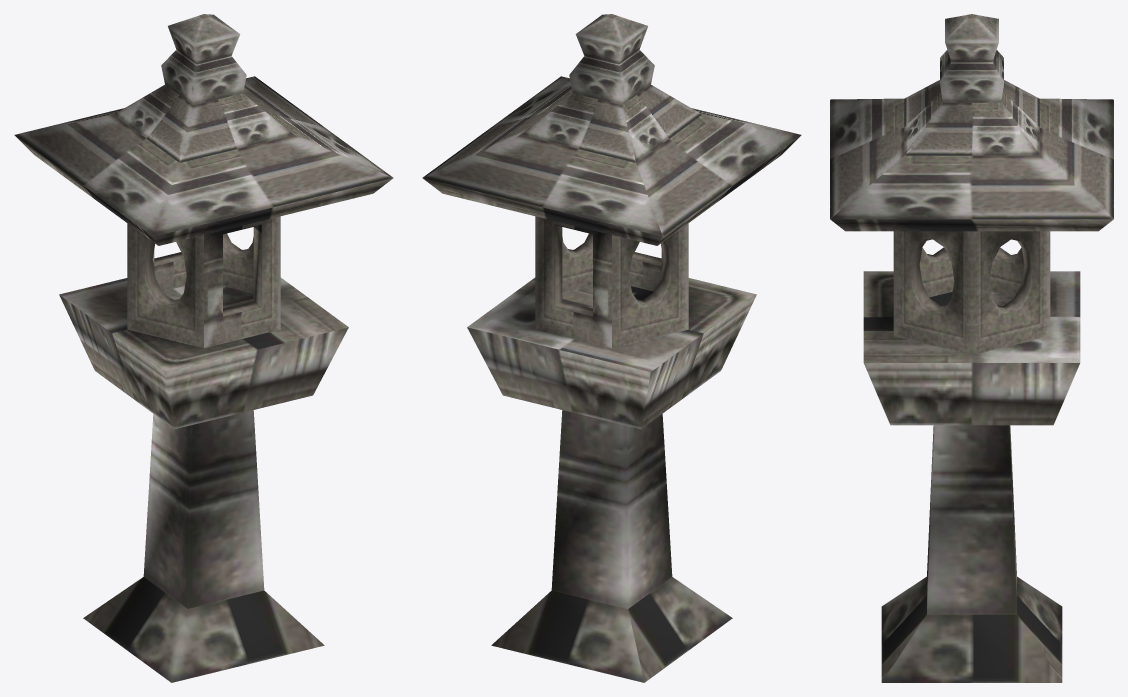
File: int_jgd_lantern.dae
3 views of the same model, side by side, from view 1: azimuth 30°, elevation 25°; view 2: azimuth 150°, elevation 25°; view 3: azimuth 270°, elevation 25° (orthographic). The views are drawn at different scales.
Parts seen in each view (by area): view 1: int_jgd_lantern; view 2: int_jgd_lantern; view 3: int_jgd_lantern.
Boxes of the visible parts, x1,y1,x2,y2 form: int_jgd_lantern: (14, 14, 393, 682); int_jgd_lantern: (422, 14, 801, 682); int_jgd_lantern: (830, 14, 1113, 682).
Bounding box in the file's own units: 25.11 × 61.6 × 25.11.
1 material, 1 textured.
